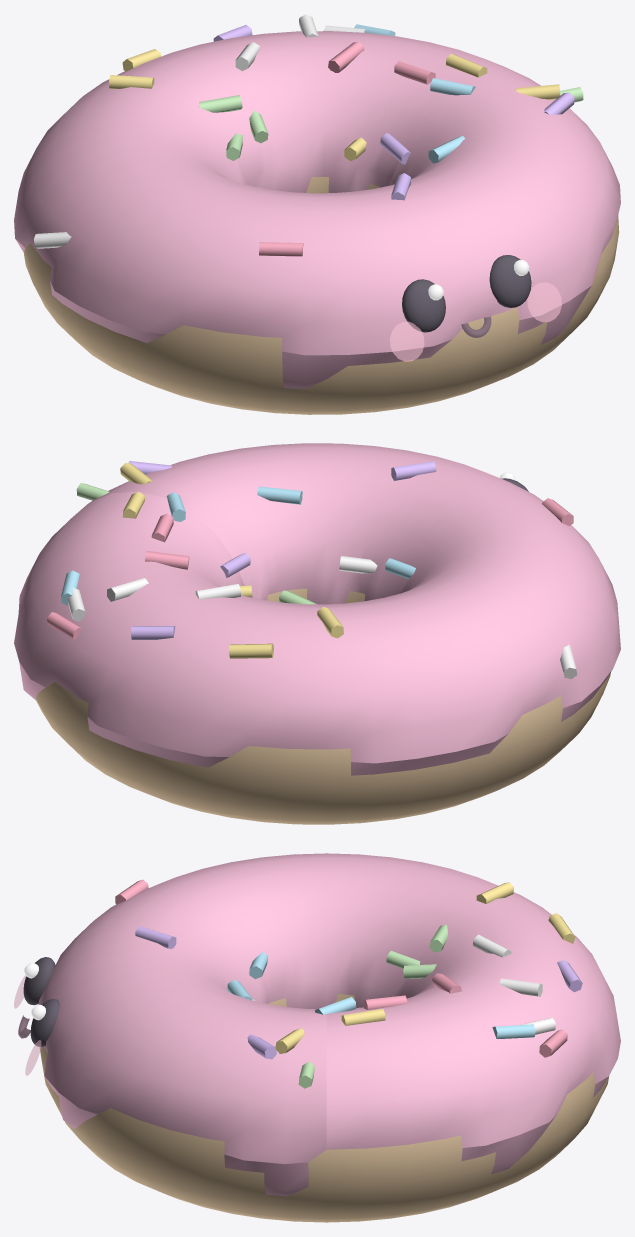
File: squishy_donut.glb
3 views of the same model, one above another, from view 1: azimuth 30°, elevation 25°; view 2: azimuth 150°, elevation 25°; view 3: azimuth 270°, elevation 25° (orthographic). The views are drawn at different scales.
Parts seen in each view (by area): view 1: Body, Part_0, Part_27, Part_30, Part_32, Part_29, Part_24, Part_16, Part_8, Part_6, Part_15, Part_18; view 2: Body, Part_0, Part_2, Part_21, Part_17, Part_11, Part_6, Part_1; view 3: Body, Part_0, Part_27, Part_30, Part_9, Part_14, Part_7, Part_11.
Part boxes in pixels (x1=…): Body: x1=14, y1=31, x2=620, y2=388; Part_0: x1=24, y1=177, x2=619, y2=414; Part_27: x1=402, y1=279, x2=445, y2=332; Part_30: x1=489, y1=255, x2=531, y2=307; Part_32: x1=527, y1=282, x2=561, y2=322; Part_29: x1=390, y1=321, x2=424, y2=361; Part_24: x1=259, y1=242, x2=303, y2=256; Part_16: x1=199, y1=95, x2=242, y2=112; Part_8: x1=109, y1=75, x2=154, y2=88; Part_6: x1=328, y1=42, x2=364, y2=72; Part_15: x1=430, y1=78, x2=475, y2=95; Part_18: x1=394, y1=61, x2=435, y2=84; Body: x1=14, y1=443, x2=620, y2=775; Part_0: x1=35, y1=588, x2=610, y2=824; Part_2: x1=229, y1=643, x2=273, y2=658; Part_21: x1=257, y1=486, x2=302, y2=504; Part_17: x1=131, y1=626, x2=175, y2=639; Part_11: x1=391, y1=461, x2=436, y2=480; Part_6: x1=145, y1=550, x2=189, y2=569; Part_1: x1=339, y1=556, x2=377, y2=573; Body: x1=38, y1=853, x2=620, y2=1196; Part_0: x1=39, y1=994, x2=608, y2=1222; Part_27: x1=23, y1=957, x2=55, y2=1005; Part_30: x1=30, y1=999, x2=59, y2=1046; Part_9: x1=492, y1=1024, x2=535, y2=1038; Part_14: x1=341, y1=1009, x2=385, y2=1025; Part_7: x1=499, y1=978, x2=542, y2=996; Part_11: x1=135, y1=926, x2=176, y2=948.
Bounding box in the file's own units: 2.41 × 0.8975 × 2.46.
